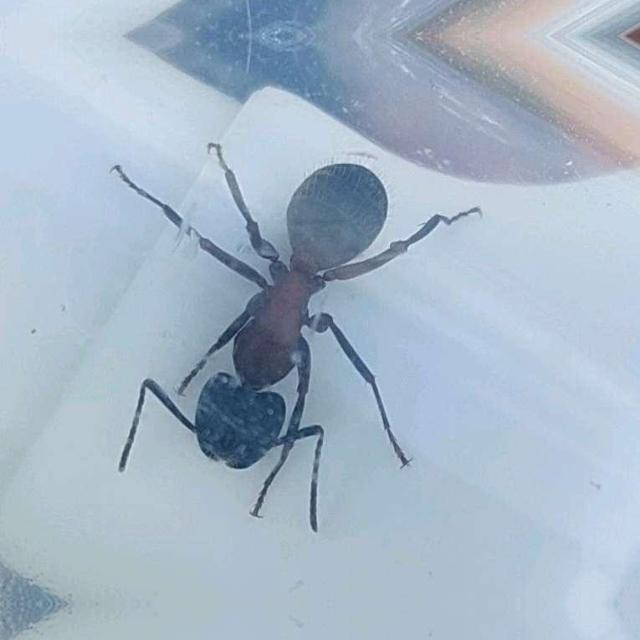Camponotus: (51, 120, 530, 534)
